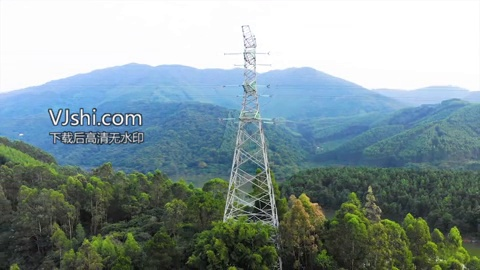tower_body: (215, 21, 281, 225)
tower_foot: (221, 188, 276, 222)
tower_head: (221, 24, 272, 66)
